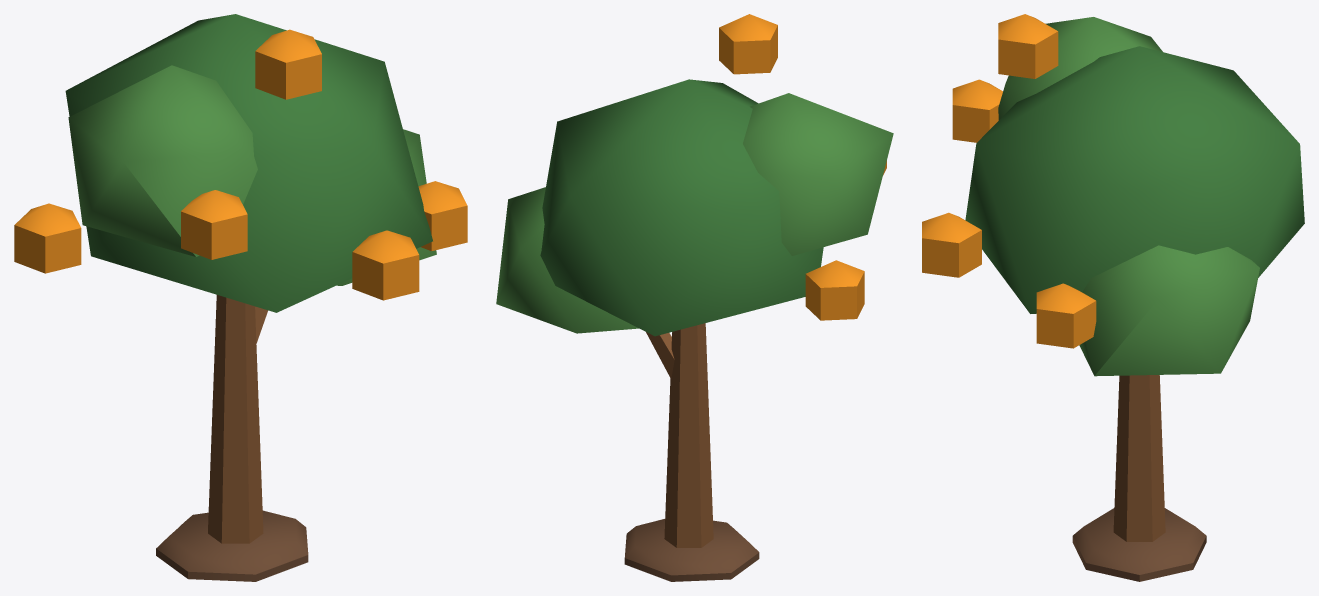
File: orange_tree_ripe.glb
3 views of the same model, side by side, from view 1: azimuth 30°, elevation 25°; view 2: azimuth 150°, elevation 25°; view 3: azimuth 270°, elevation 25° (orthographic). The views are drawn at different scales.
Parts seen in each view (by area): view 1: orange_tree_ripe; view 2: orange_tree_ripe; view 3: orange_tree_ripe.
Boxes of the visible parts, <box> form: orange_tree_ripe: <box>14,14,467,581</box>; orange_tree_ripe: <box>496,14,893,581</box>; orange_tree_ripe: <box>922,14,1304,581</box>.
Size of the model in its own units: 1.13 by 1.54 by 1.
Materials: 1 (1 with a texture image).
